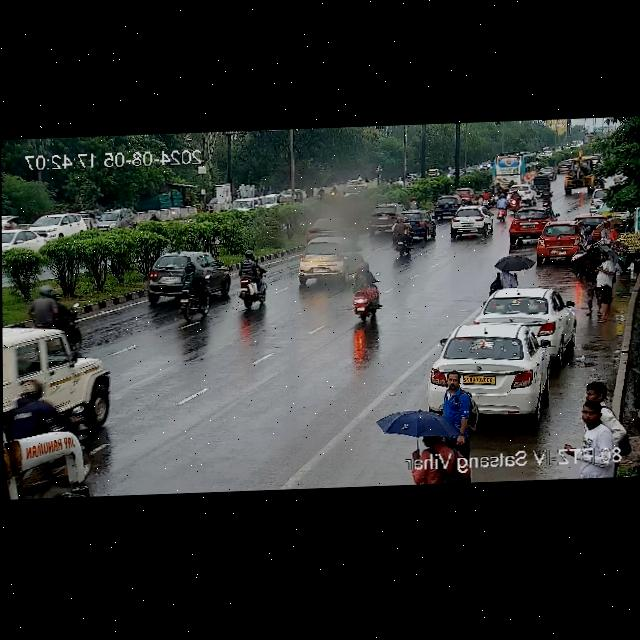bus: (7, 391, 100, 499), (487, 151, 536, 187)
car: (425, 321, 565, 419), (3, 327, 105, 419), (477, 288, 574, 349), (141, 250, 229, 299), (294, 237, 350, 283), (534, 223, 584, 259), (29, 212, 94, 238), (506, 207, 551, 238), (445, 208, 492, 236), (228, 195, 288, 214), (2, 229, 43, 255), (96, 207, 133, 233), (368, 202, 403, 229), (413, 208, 436, 239), (305, 217, 336, 239), (430, 197, 459, 216), (529, 176, 552, 194), (590, 189, 606, 213), (279, 188, 300, 206), (456, 184, 475, 201), (533, 177, 552, 191), (542, 166, 556, 179)
motorcycle: (32, 285, 83, 349), (235, 253, 273, 310), (178, 269, 217, 321), (346, 273, 383, 320), (14, 381, 56, 419), (390, 218, 416, 256), (493, 196, 506, 219), (509, 190, 522, 212), (480, 189, 492, 207), (541, 187, 551, 207), (493, 183, 502, 202), (313, 186, 326, 198), (149, 212, 161, 223), (408, 196, 417, 209), (330, 186, 339, 197)
person: (573, 408, 622, 466), (404, 436, 461, 484), (437, 376, 473, 449), (593, 253, 618, 322), (491, 265, 517, 291), (580, 227, 592, 250), (599, 221, 611, 240), (611, 224, 621, 240)
truck: (558, 155, 597, 194)
